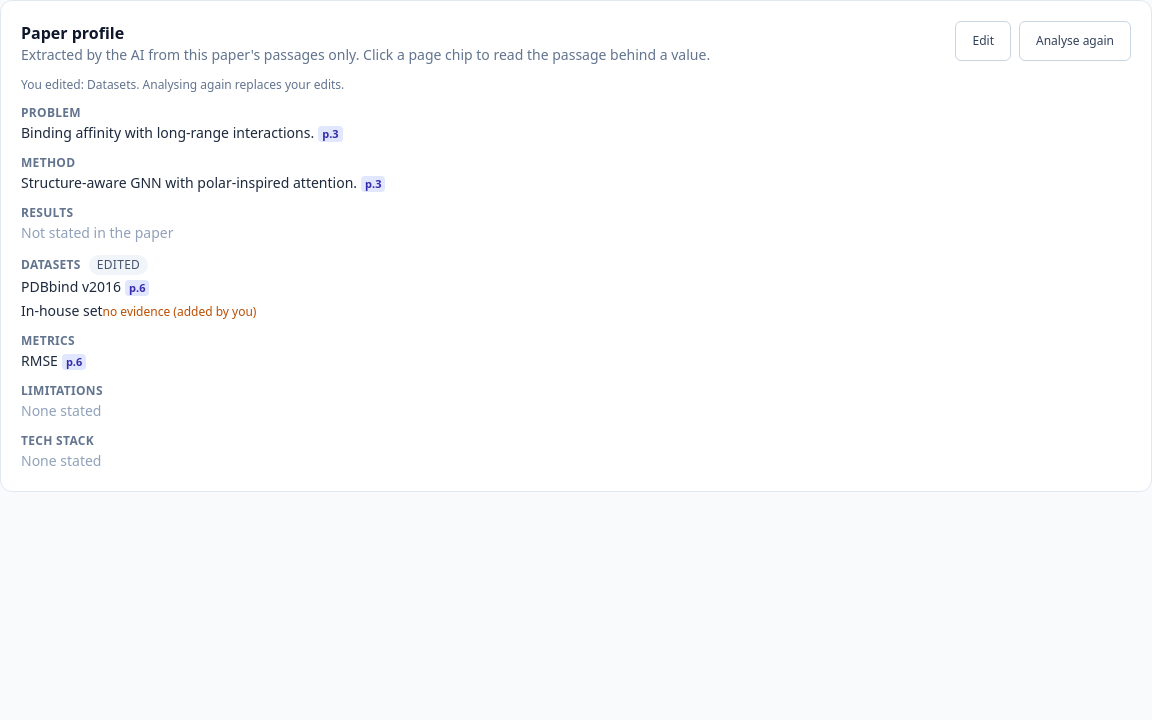
Test: ProfilePanel › shows each value with evidence that opens the passage
Expected: the text "Structure-aware GNN with polar-inspired attention." is shown, [21,173,357,192]
Expected: the text "Not stated in the paper" is shown, [21,223,174,242]
Click the button named "Evidence 1 for Method: 4 Model, page 3": x=373, y=184 [361,176,386,192]
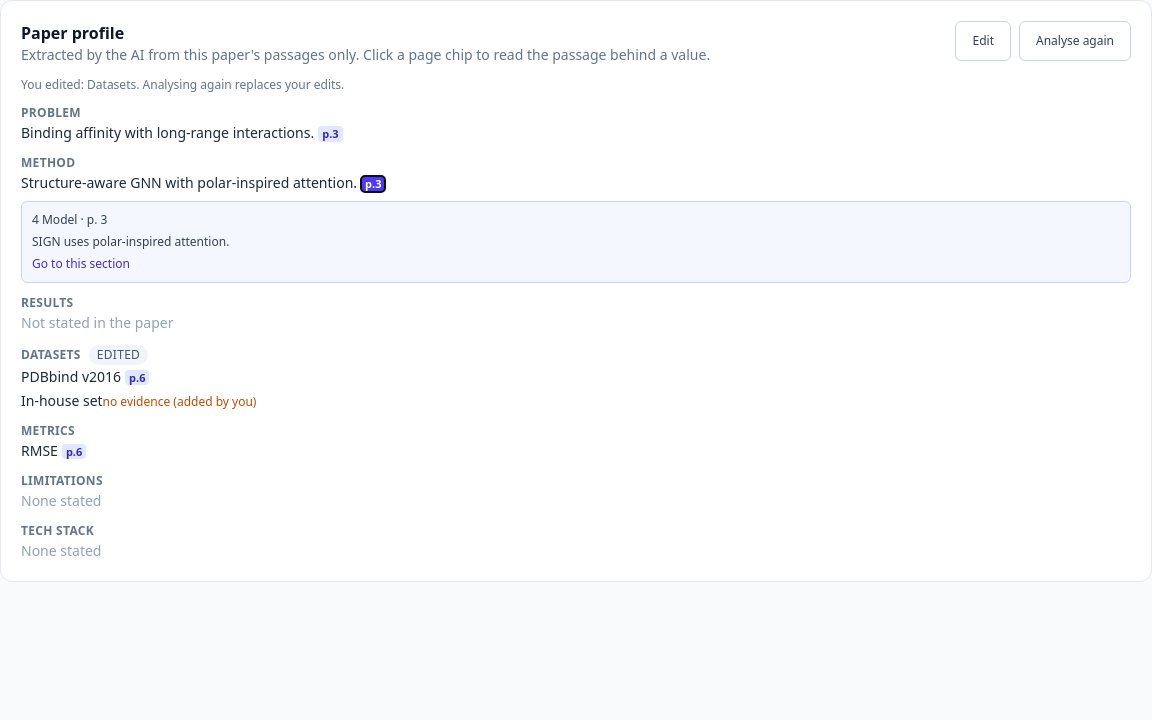
Expected: the element that starts with "4 Model" shows "4 Model · p. 3", [21,201,1131,282]
Expected: the element that starts with "4 Model" shows "SIGN uses polar-inspired attention.", [32,233,229,250]
